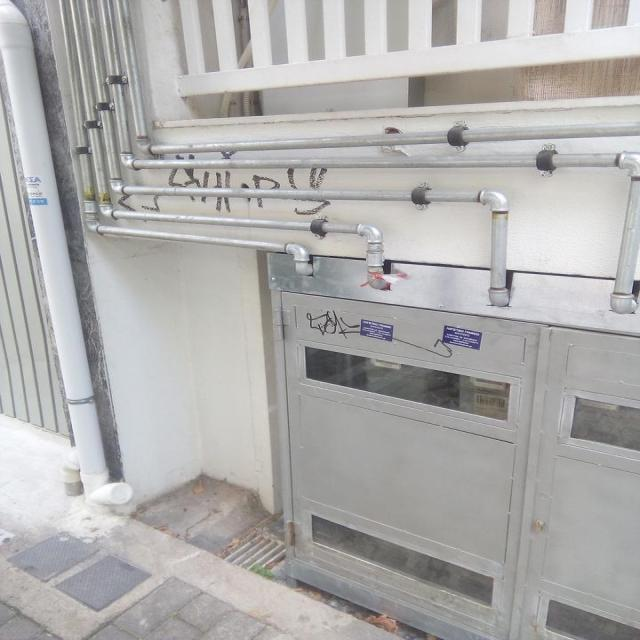nonspitting: (116, 146, 332, 216), (306, 310, 456, 360)
